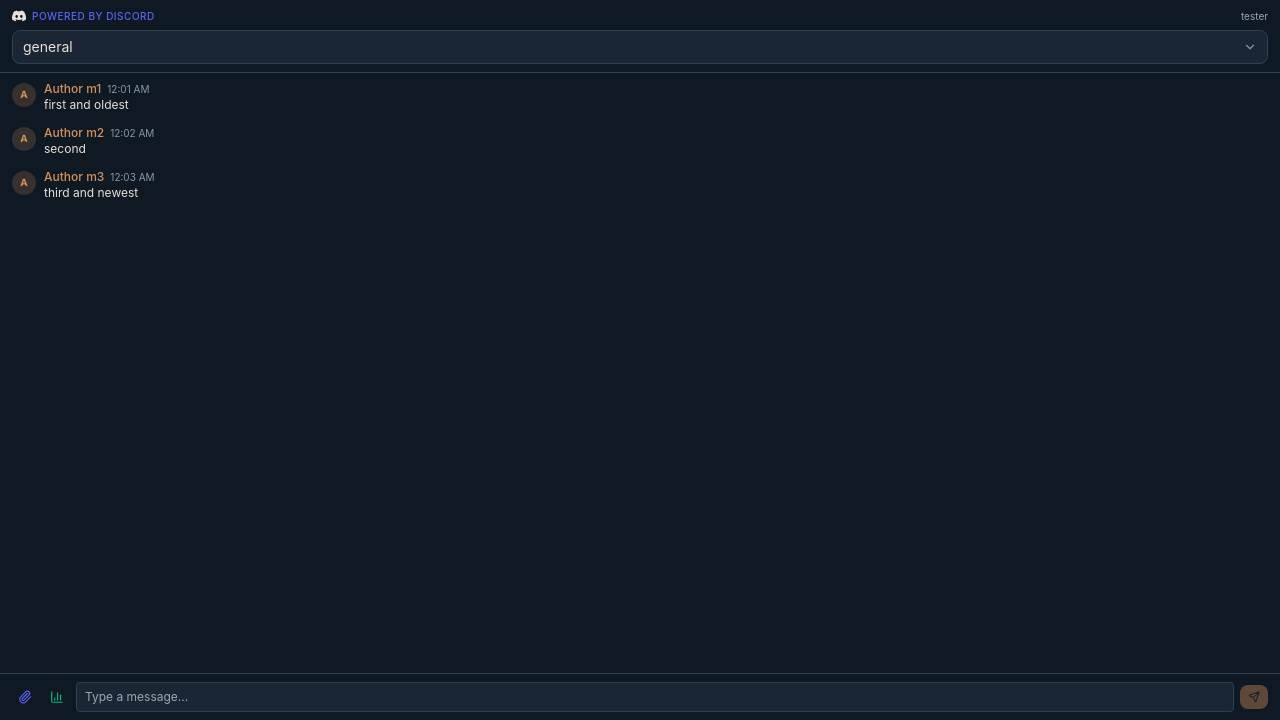
Test case: CommunitySidebar shows a sent message once, in its own channel (R594) › an answer that arrives after a switch to another channel is not shown there
The image size is (1280, 720).
Type "just sent" into the field with placeholder "Type a message..." at (655, 697), box [76,682,1234,712]
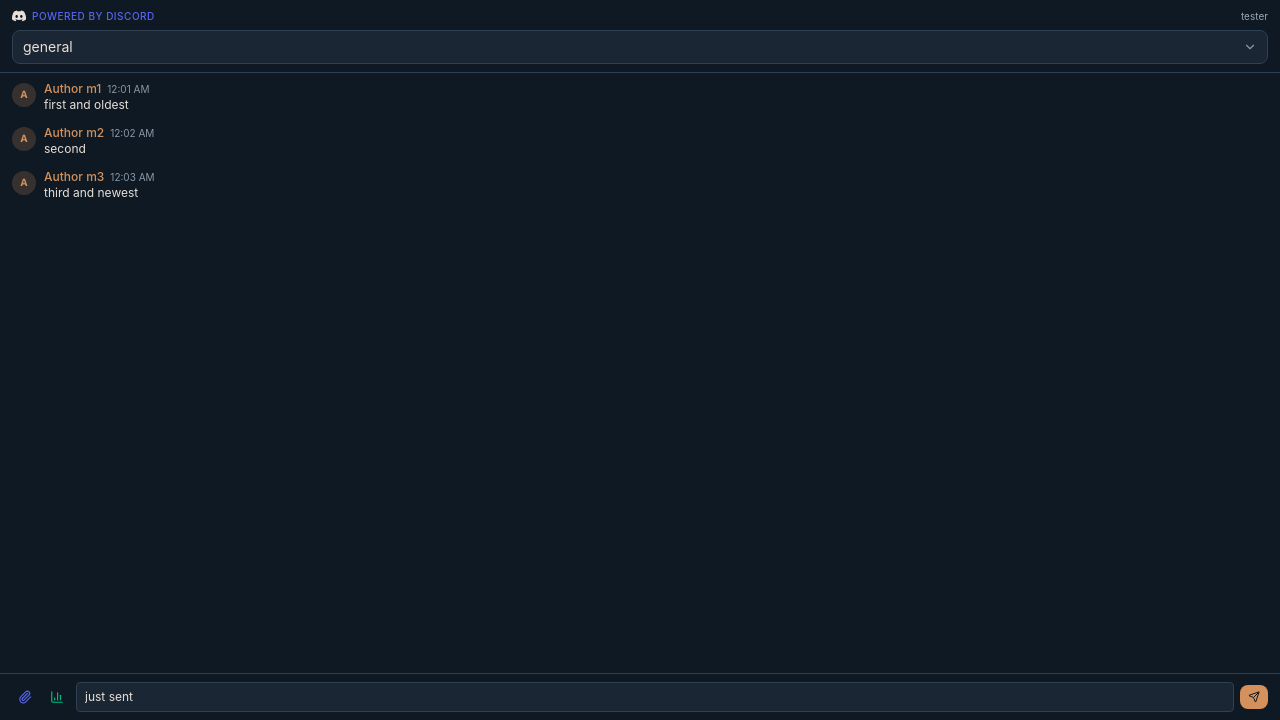
Press Enter in the field with placeholder "Type a message...", box [76,682,1234,712]
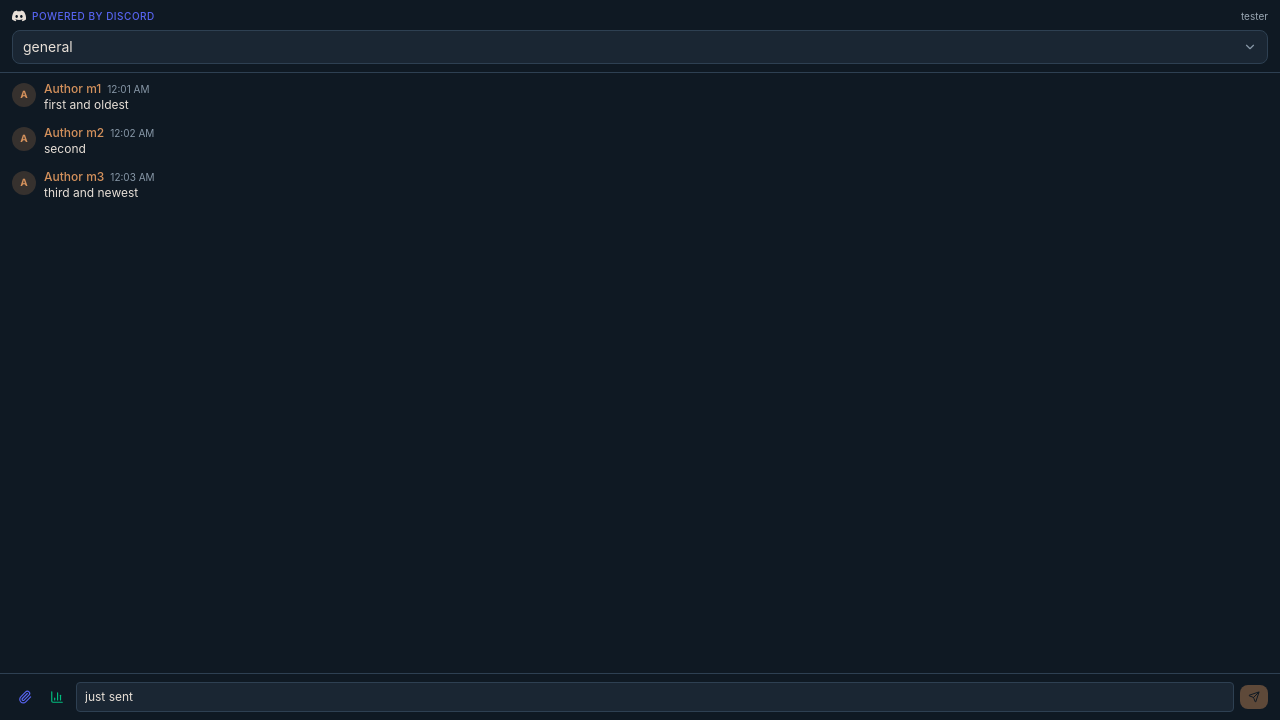
Click the button "general" at (48, 46), box [12,30,1268,64]
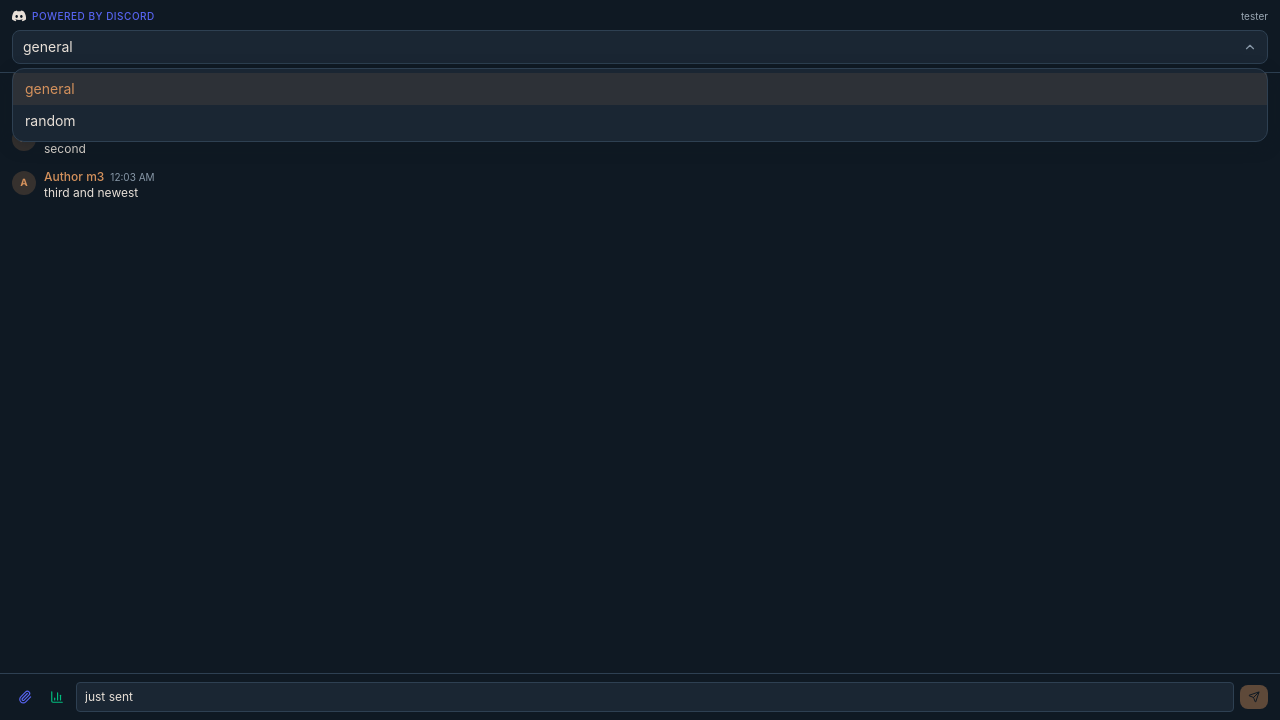
Click the button "random" at (50, 120), box [13,105,1267,137]
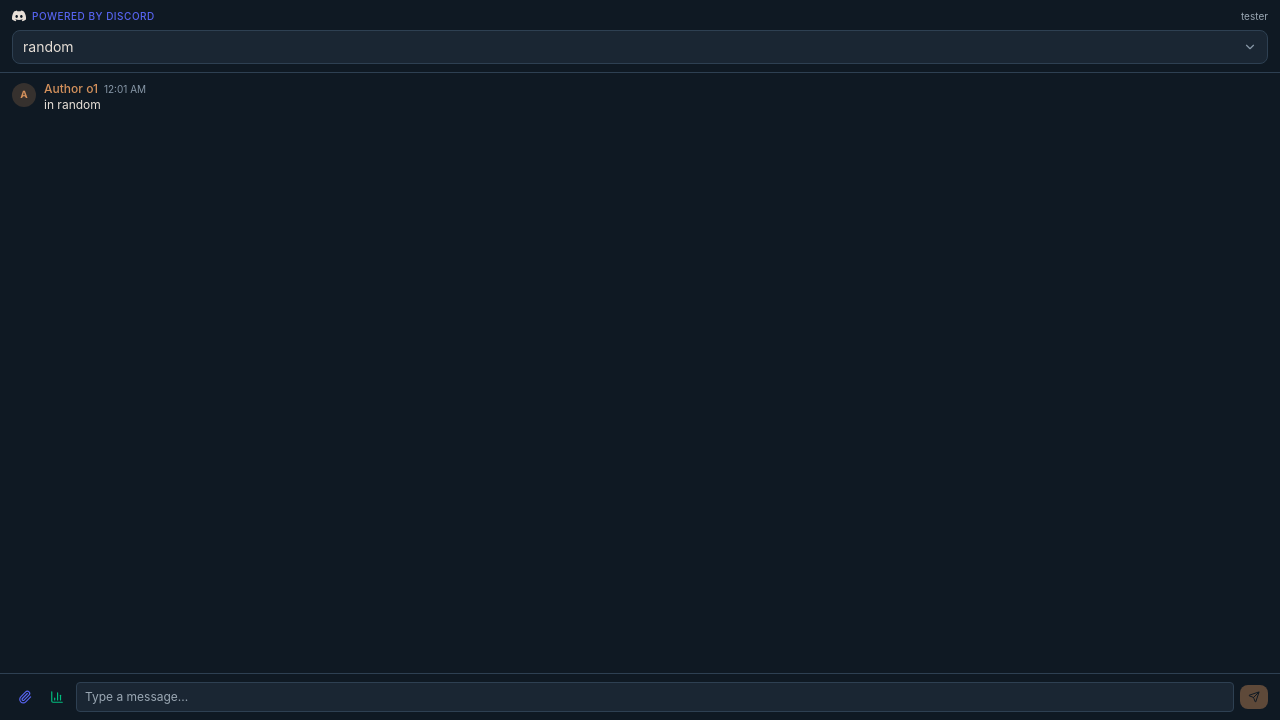
Expected: the text "just sent" is not shown
Expected: the text "in random" is shown, [44,97,101,112]
